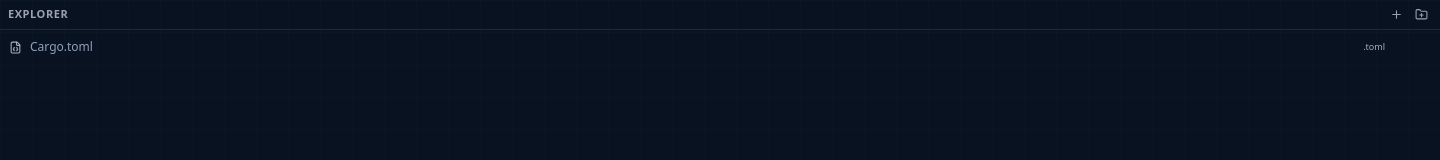
Test case: FileTree › inline CRUD operations with optimistic updates › creates a new file optimistically when using toolbar
Click the button with test id "filetree-new-file": (1396, 14) x1=1386 y1=4 x2=1407 y2=25
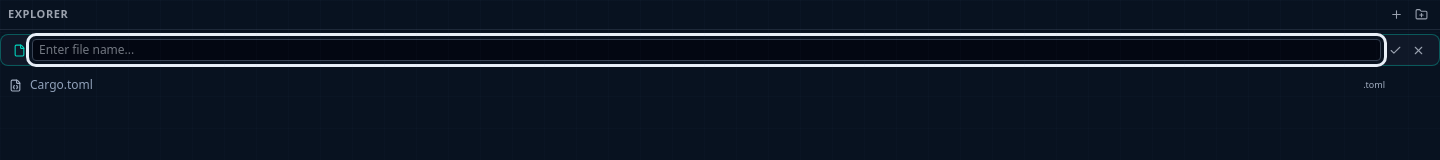
Expected: the field with test id "filetree-inline-input" is shown
In the field with test id "filetree-inline-input": (706, 50) x1=32 y1=39 x2=1381 y2=61, type "README.md"
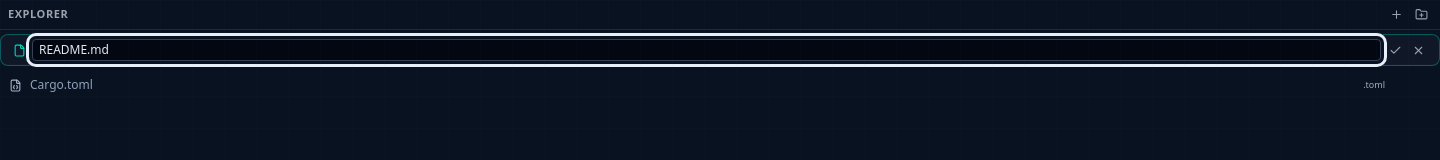
Press Enter in the field with test id "filetree-inline-input", box x1=32 y1=39 x2=1381 y2=61
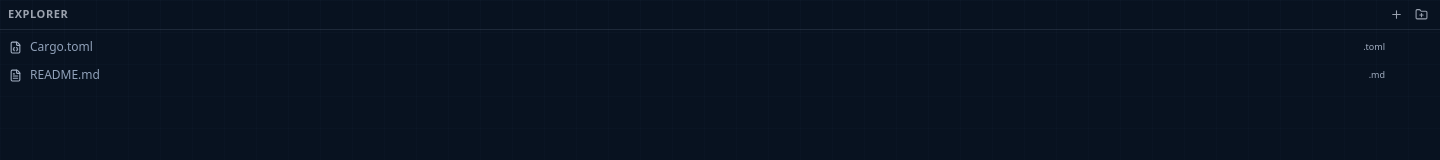
Expected: the text "README.md" is shown, x1=30 y1=67 x2=100 y2=83
